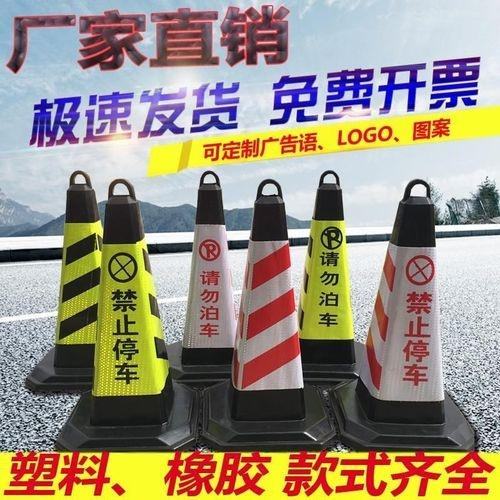cone_barrel: (354, 186, 463, 432), (220, 186, 318, 437), (83, 184, 178, 434), (32, 177, 111, 383), (296, 170, 361, 384), (176, 171, 239, 381)
